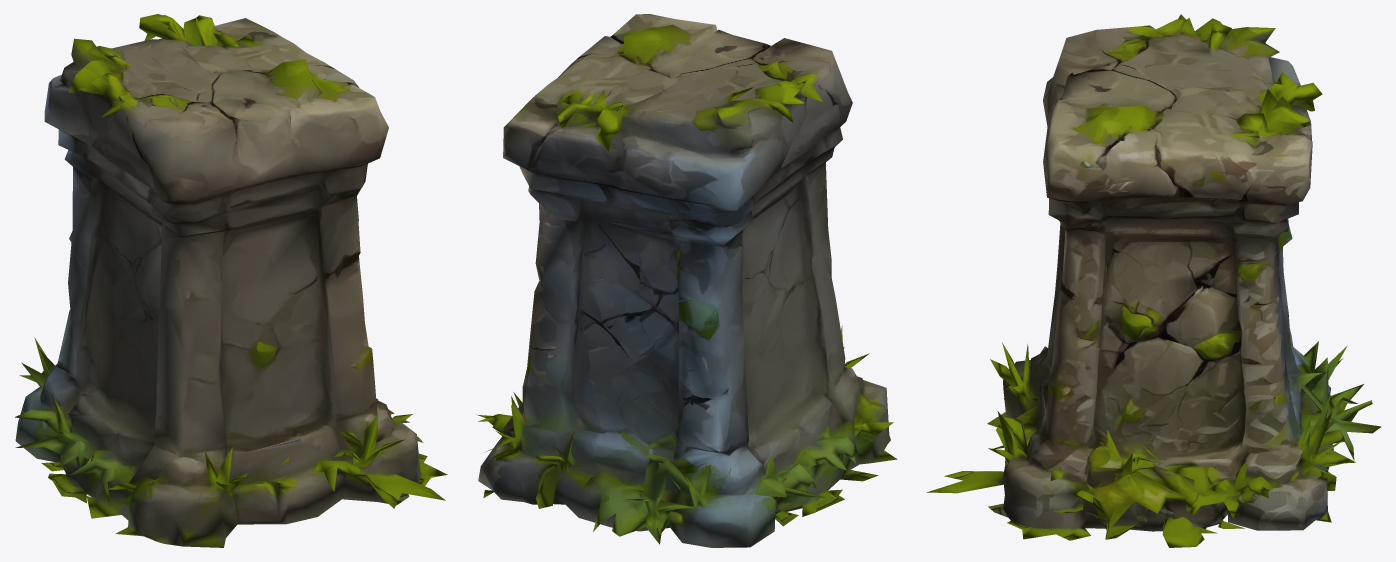
Rendered from decor_pillar.glb.
3 renders of one model, left to right at view 1: azimuth 30°, elevation 25°; view 2: azimuth 150°, elevation 25°; view 3: azimuth 270°, elevation 25°, orthographic. The views are drawn at different scales.
Visible parts, largest first — view 1: tripo_node_0dee39cd-d319-469b-892c-e1d8763ad2b4; view 2: tripo_node_0dee39cd-d319-469b-892c-e1d8763ad2b4; view 3: tripo_node_0dee39cd-d319-469b-892c-e1d8763ad2b4.
Part boxes in pixels (<box>): tripo_node_0dee39cd-d319-469b-892c-e1d8763ad2b4: <box>15,14,447,547</box>; tripo_node_0dee39cd-d319-469b-892c-e1d8763ad2b4: <box>476,14,897,547</box>; tripo_node_0dee39cd-d319-469b-892c-e1d8763ad2b4: <box>926,14,1381,547</box>.
Bounding box in the file's own units: 0.8516 × 0.9582 × 0.9818.
Materials: 1 (1 with a texture image).
